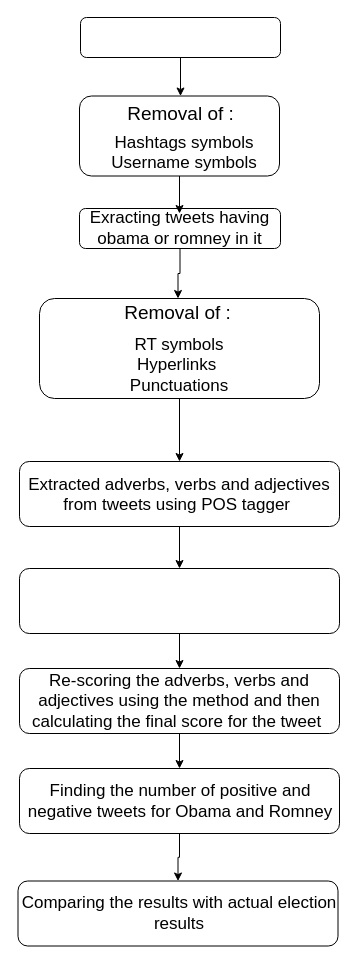
Some shapes in this 357 by 964 pixel diagram are drawn without their labels. Each missing label, with the centre of its shape:
Scoring the extracted adverbs, verbs and adjectives: pixel 179 601
tweets.json: pixel 180 37
